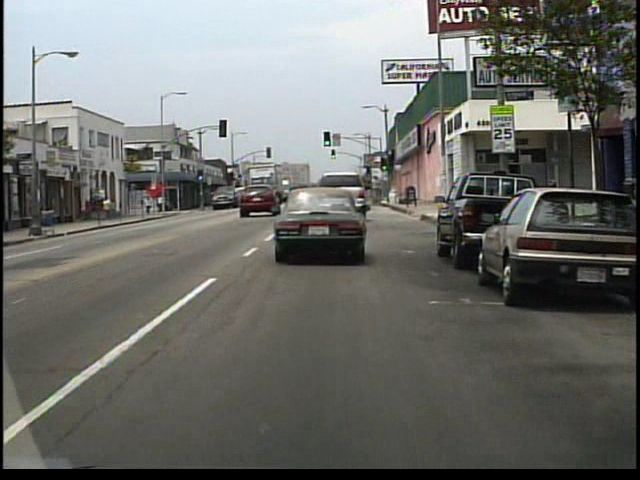person: (104, 195, 114, 221), (144, 195, 153, 216), (110, 197, 118, 220)
